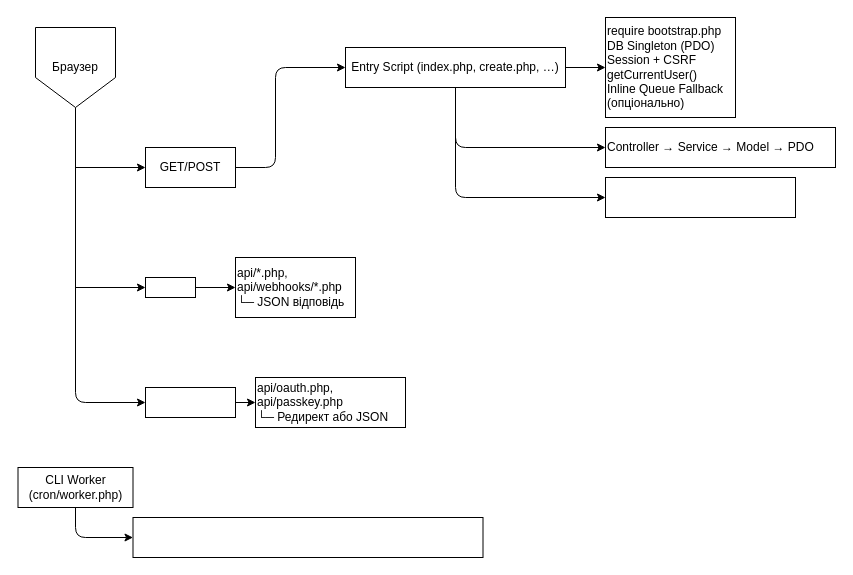
The diagram is 853 pixels wide and 575 high, and some of its shapes have lost their labels. Each missing label, with the centre of its shape:
"AJAX" belongs at (170,287).
"OAuth/Passkey" belongs at (190,402).
"Template (header + page + footer)" belongs at (700,197).
"Читає jobs з БД ──► Moderation / Mailer / інші обробники" belongs at (307,537).
